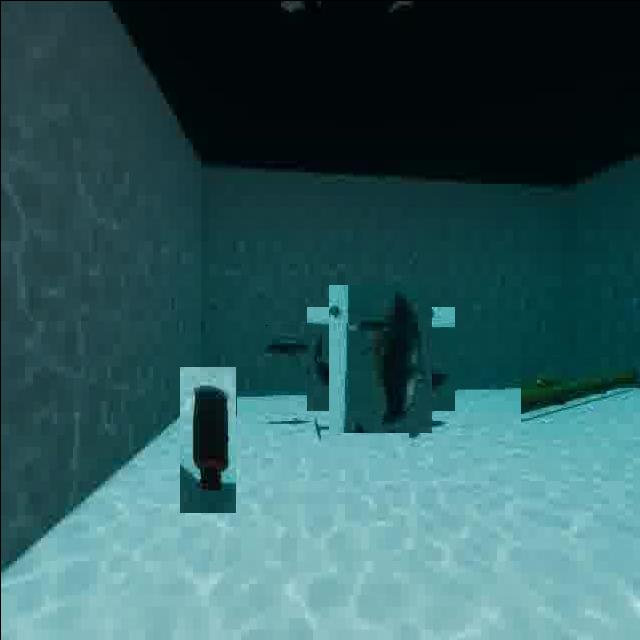Cylinder: (179, 365, 236, 512)
Pipe: (520, 356, 640, 439)
Whale: (317, 295, 443, 421), (259, 324, 322, 360)
